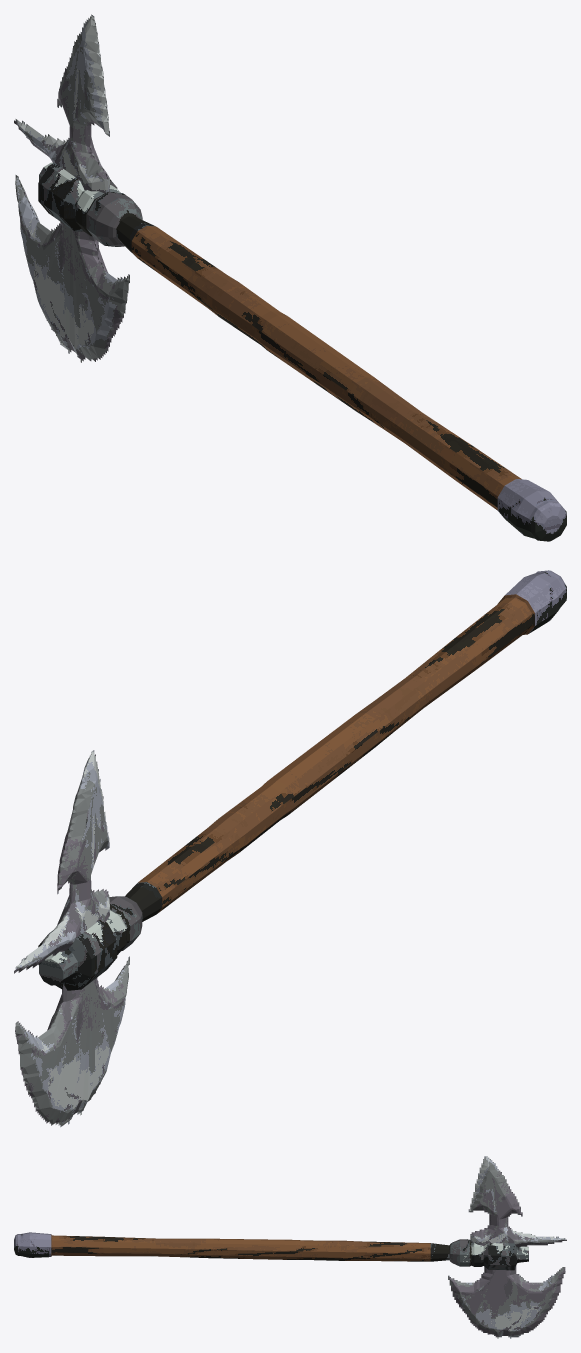
The model's file is war-axe.glb.
The picture shows the model from 3 angles, top to bottom: view 1: azimuth 30°, elevation 25°; view 2: azimuth 150°, elevation 25°; view 3: azimuth 270°, elevation 25°; orthographic projection. The views are drawn at different scales.
Parts seen in each view (by area): view 1: haft, head, socket, butt; view 2: haft, head, socket, butt; view 3: head, haft, socket, butt.
Part boxes in pixels (x1,y1,x2,y2): haft: (131, 225, 521, 510); head: (14, 14, 129, 362); socket: (38, 162, 155, 256); butt: (497, 479, 566, 541); haft: (138, 594, 534, 914); head: (14, 750, 129, 1127); socket: (38, 882, 162, 990); butt: (505, 570, 566, 633); head: (448, 1156, 566, 1338); haft: (51, 1234, 430, 1261); socket: (430, 1239, 528, 1270); butt: (14, 1232, 51, 1257).
Size of the model in its own units: 0.0684 by 0.4348 by 1.19.
Materials: 2 (2 with a texture image).
